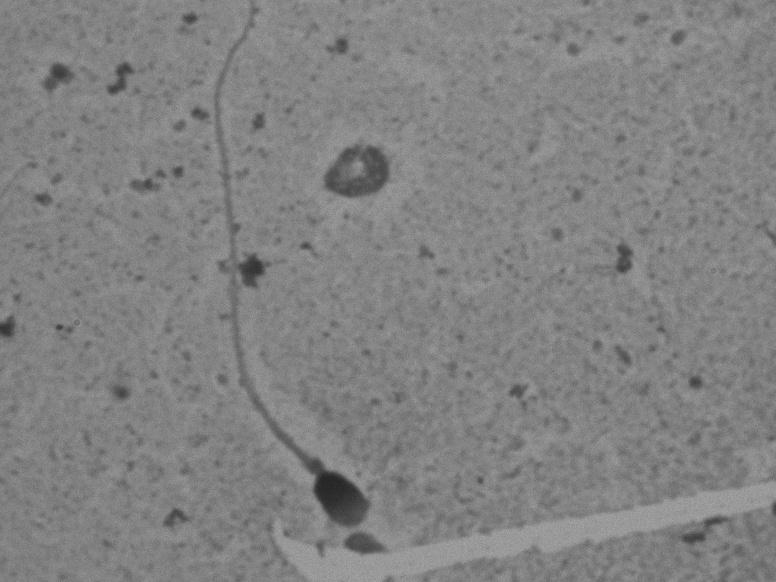Normal: (191, 10, 392, 533)
